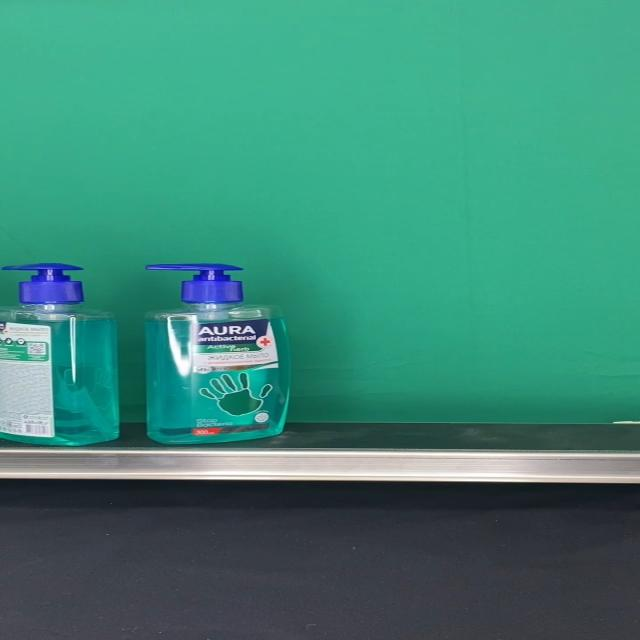Bottle: (144, 262, 291, 444), (0, 264, 118, 446)
Cap: (145, 263, 241, 305), (0, 264, 84, 306)
